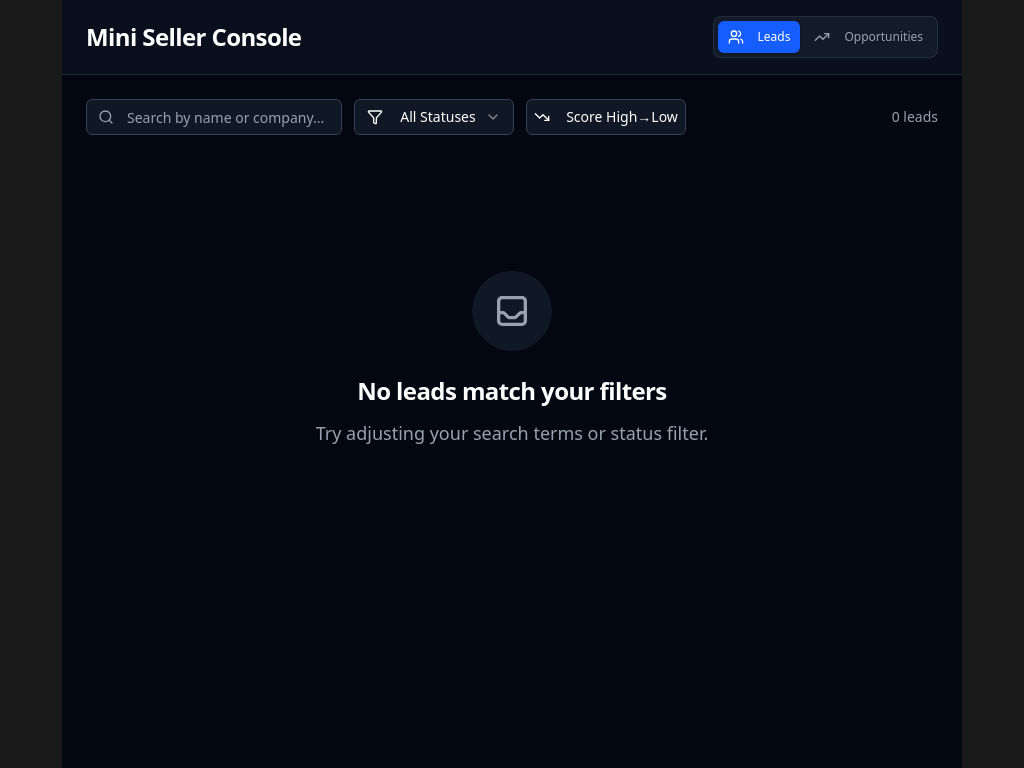
Test: Home › should switch between leads and opportunities tabs
Expected: the field with placeholder "Search by name or company..." is shown, [86,99,342,135]
// Click on opportunities tab
Click the button "Opportunities" at (869, 37), box [804,21,933,53]
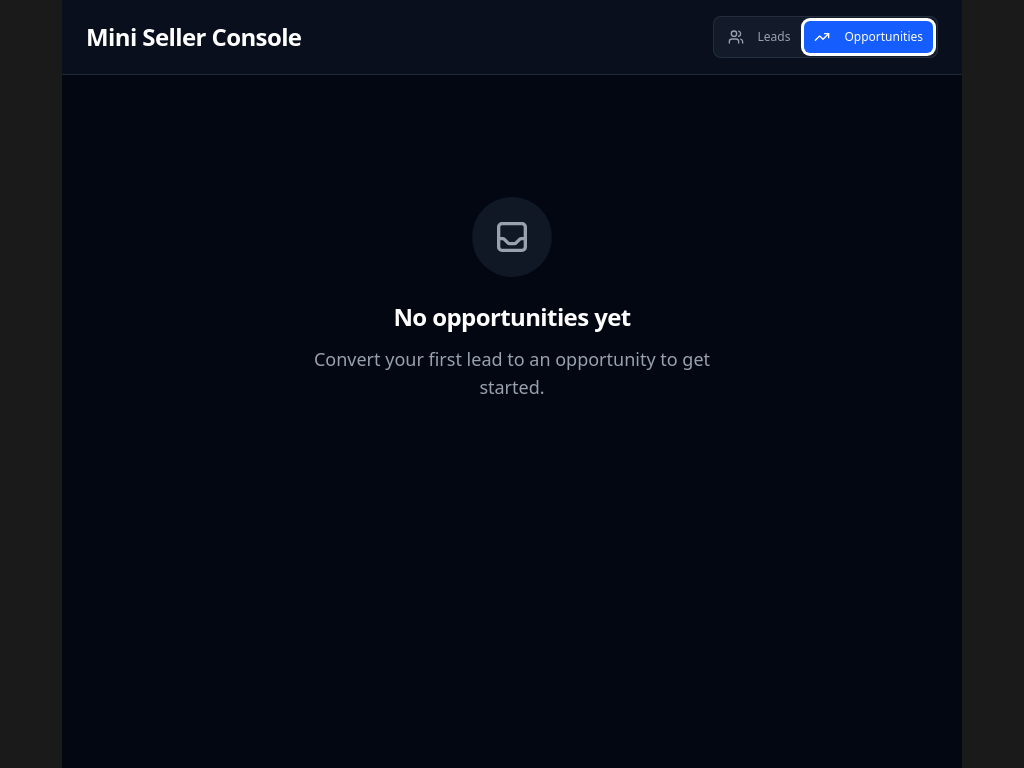
Expected: the heading "No opportunities yet" is shown, [393,301,631,333]
